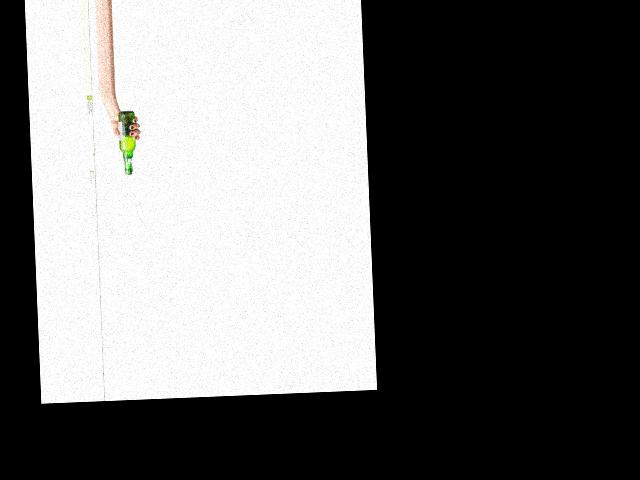beer: (117, 110, 136, 175)
